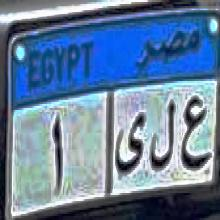1: (47, 113, 70, 190)
ain: (182, 89, 210, 173)
laam: (148, 100, 177, 172)
yaa: (116, 108, 144, 177)
